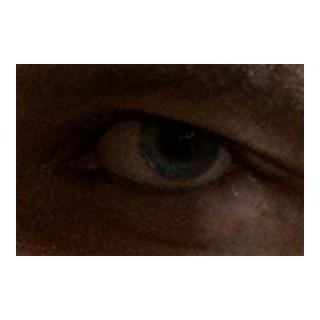pupil: (162, 121, 198, 157)
